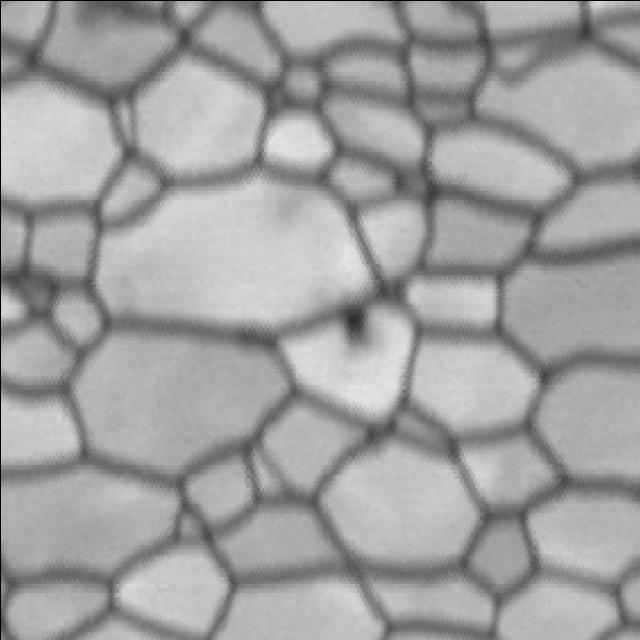good_void: (330, 292, 376, 357)
